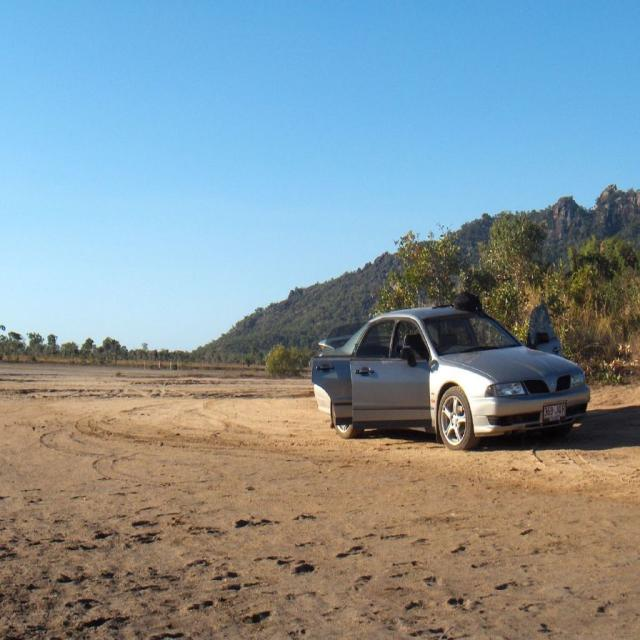car: (307, 293, 590, 452)
